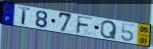5: (121, 22, 136, 42)
7: (58, 11, 74, 33)
8: (36, 10, 50, 29)
F: (75, 15, 95, 36)
Q: (99, 20, 118, 40)
T: (18, 6, 32, 27)
